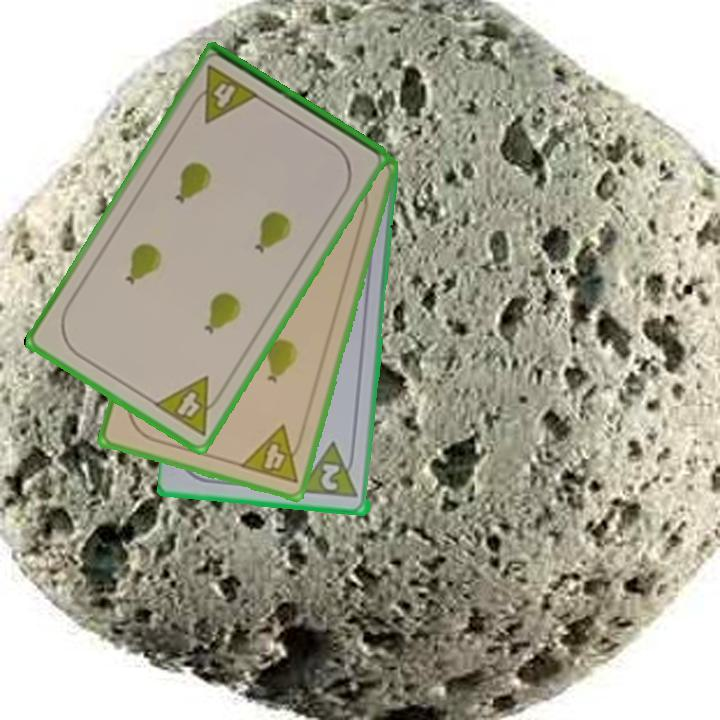2p: (317, 460, 343, 494)
4p: (150, 372, 229, 439), (185, 62, 262, 127), (236, 422, 308, 487)
